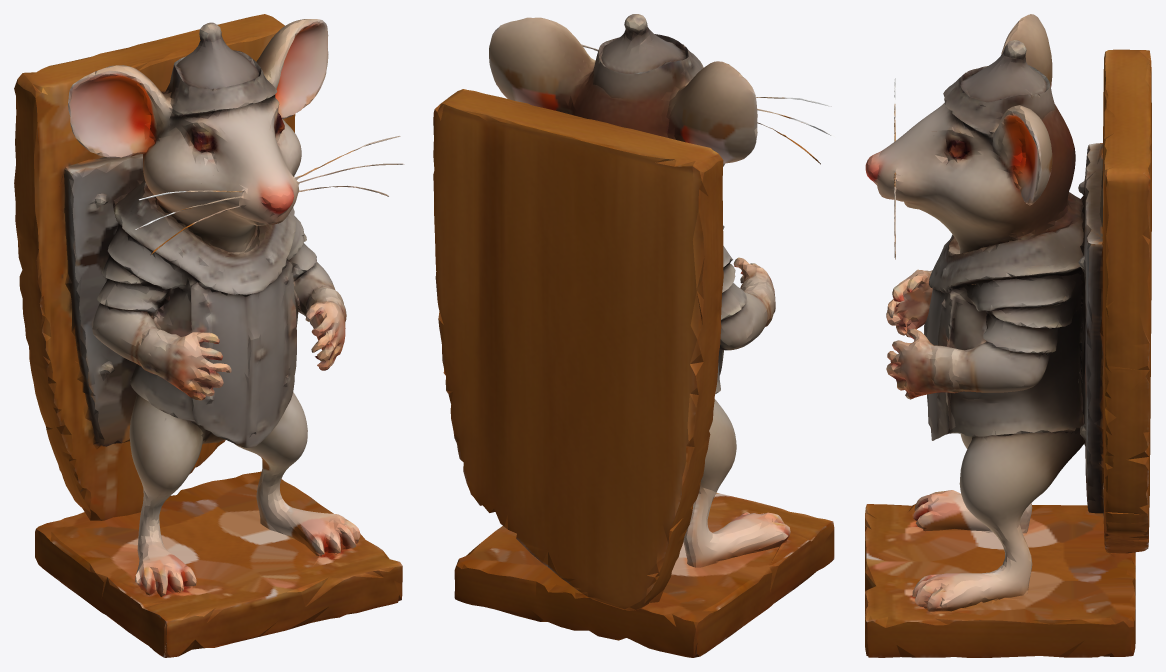
The picture shows the model from 3 angles, left to right: view 1: azimuth 30°, elevation 25°; view 2: azimuth 150°, elevation 25°; view 3: azimuth 270°, elevation 25°; orthographic projection. The views are drawn at different scales.
Visible parts, largest first — view 1: 007; view 2: 007; view 3: 007.
Boxes of the visible parts, x1=… form: 007: x1=14, y1=14, x2=404, y2=657; 007: x1=433, y1=14, x2=835, y2=657; 007: x1=865, y1=14, x2=1151, y2=657.
Size of the model in its own units: 0.971 by 1.9 by 0.8849.
1 material, 1 textured.
